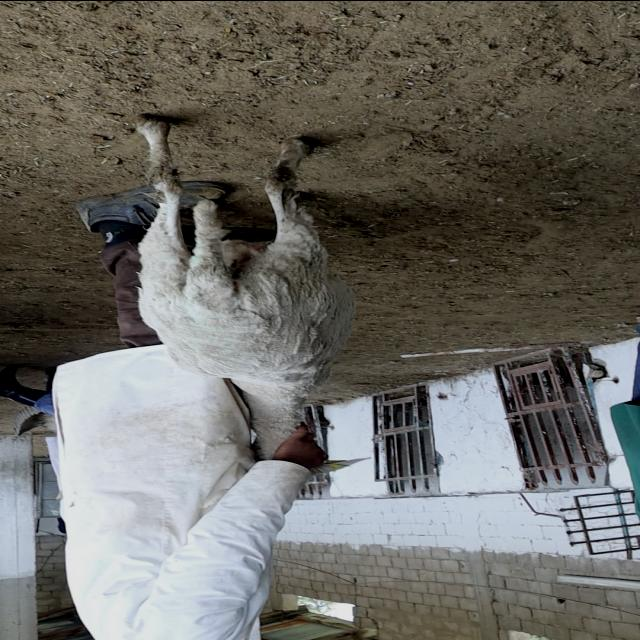Score_3: (137, 113, 356, 459)
